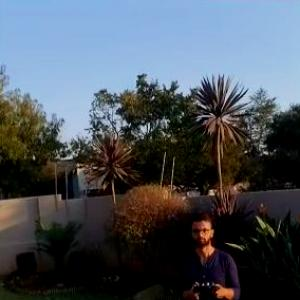follow: (173, 205, 245, 299)
